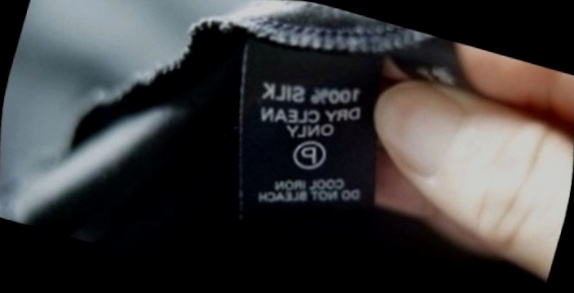dry_clean_any_solvent_except_trichloroethylene: (278, 125, 339, 184)
